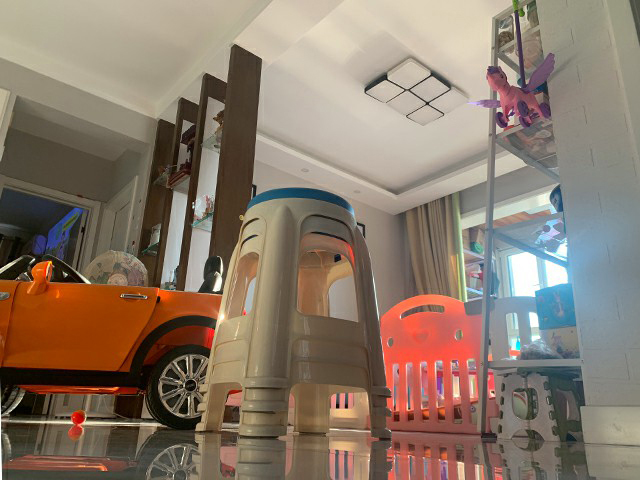stool: (194, 187, 394, 439)
